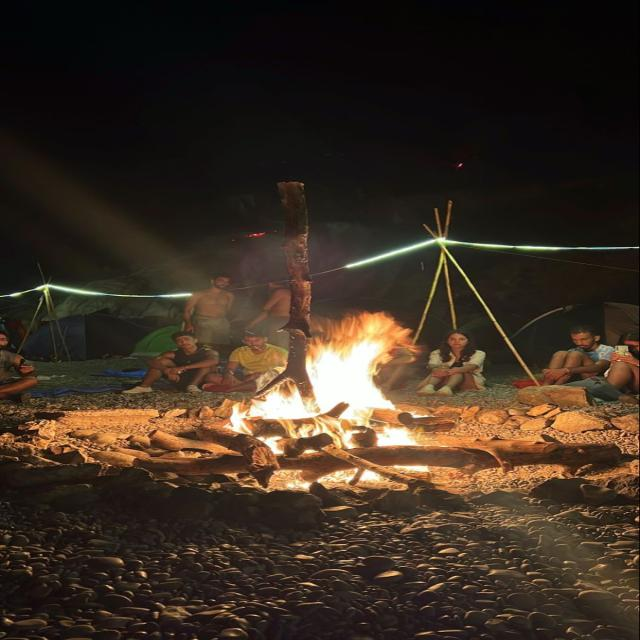fire: (302, 312, 421, 446), (249, 383, 311, 419)
